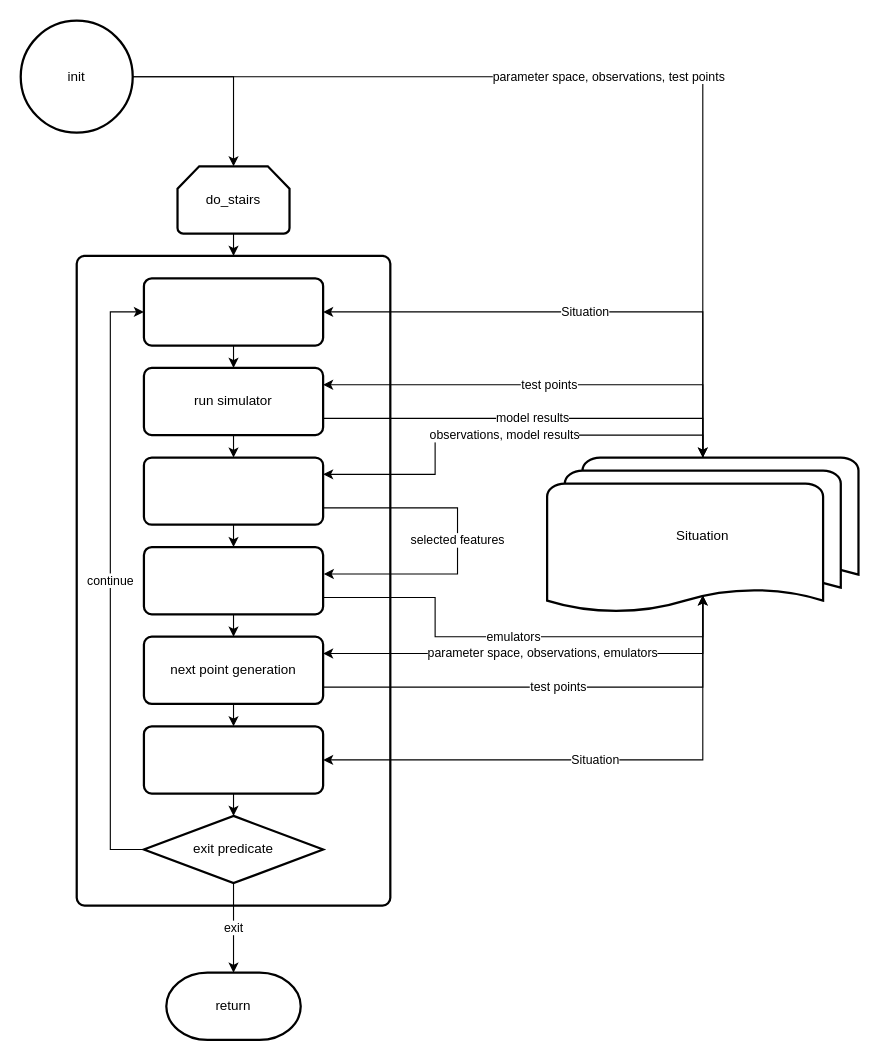
The diagram is 878 pixels wide and 1060 high, and some of its shapes have lost their labels. The centre of each missing label's shape, as x and y in pixels:
end step callback: the point at 233,759
generate emulators: the point at 233,580
select features: the point at 233,490
start step callback: the point at 233,311
